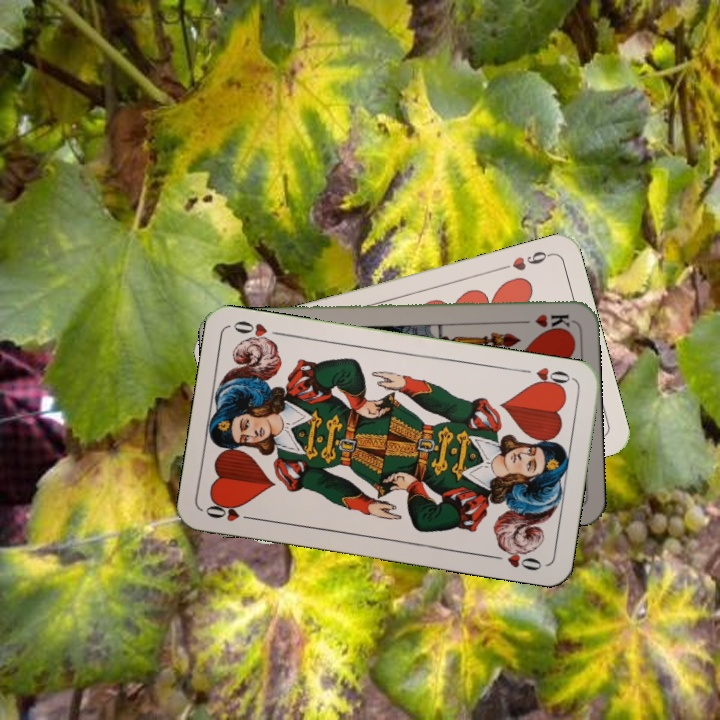H9: (496, 247, 555, 274)
HK: (514, 310, 572, 332)
HO: (516, 363, 575, 392), (201, 498, 260, 524)
